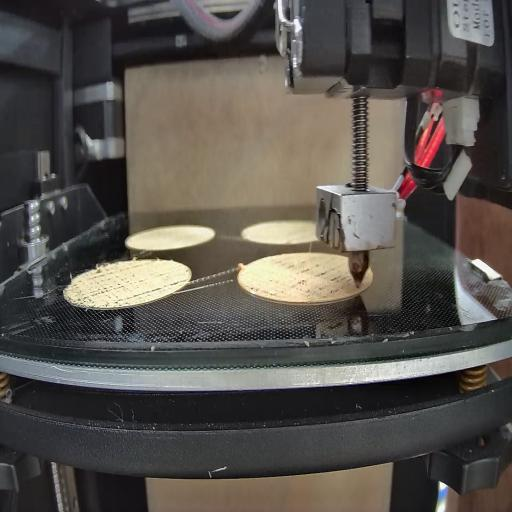under_extrusion: (68, 264, 162, 305), (252, 263, 354, 300), (166, 274, 190, 292)
